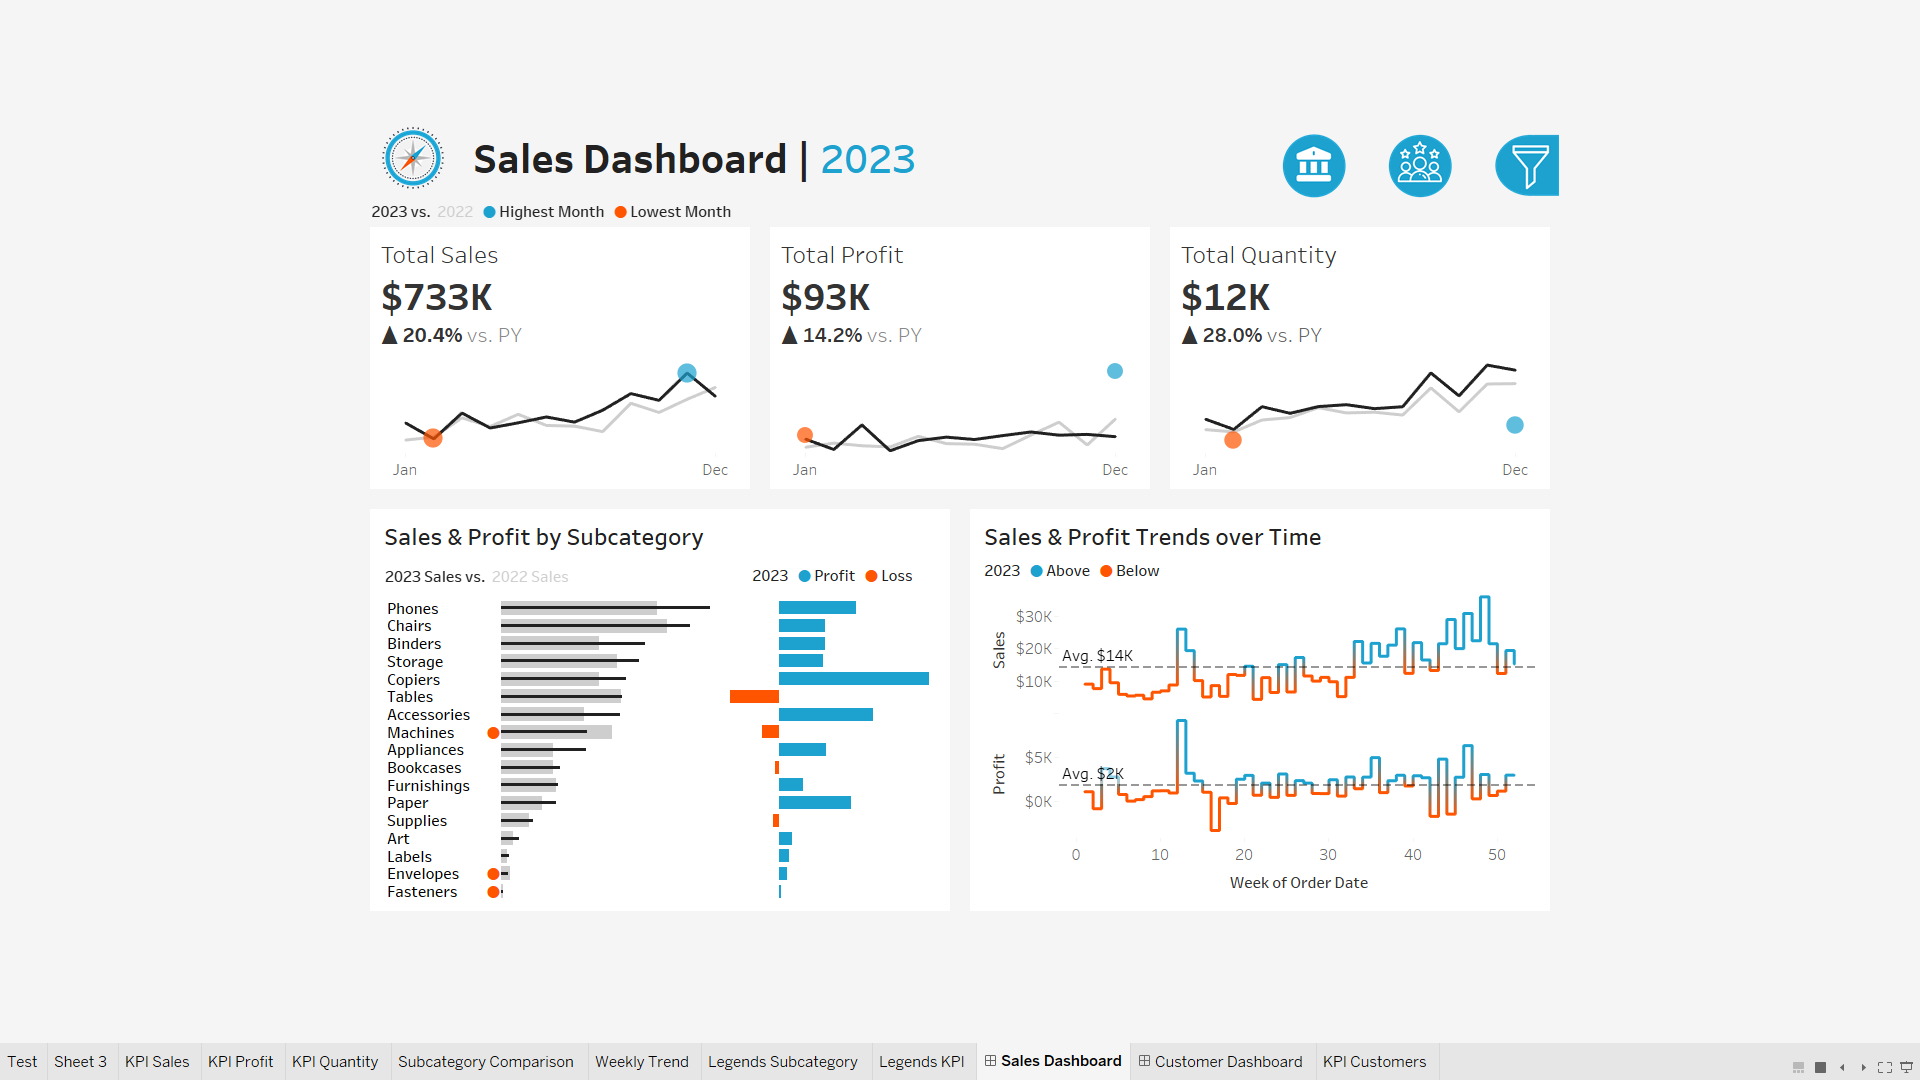

What the dashboard file says about the page in this screenshot:
{"tool":"tableau","page":{"name":"Sales Dashboard","canvas":[1200,800],"ordinal":1},"visuals":[{"type":"image","param":"Image/Icon - Logo.png","box":[0,0,106,73]},{"type":"text","box":[106,0,693,73]},{"type":"dashboard-object","box":[900,8,107,73]},{"type":"dashboard-object","box":[1007,8,106,73]},{"type":"blank","box":[910,10,279,81]},{"type":"worksheet","title":"Legends KPI","mark":"Automatic","box":[0,73,1200,33]},{"type":"text","box":[910,91,279,40]},{"type":"worksheet","title":"KPI Sales","mark":"Automatic","rows":["Calculation_754352968566202372"],"cols":["Order Date"],"box":[0,106,400,272]},{"type":"worksheet","title":"KPI Profit","mark":"Automatic","rows":["Calculation_615585807140130819"],"cols":["Order Date"],"box":[400,106,400,272]},{"type":"worksheet","title":"KPI Quantity","mark":"Automatic","rows":["Calculation_615585807147462667"],"cols":["Order Date"],"box":[800,106,400,272]},{"type":"parameter","param":"[Parameters].[Parameter 1]","box":[910,131,279,56]},{"type":"blank","box":[910,187,279,70]},{"type":"text","box":[910,257,279,33]},{"type":"filter","title":"KPI Sales","param":"[federated.1e60oxx0sqs3ql1b37qv707od4ro].[none:Category:nk]","box":[910,290,279,61]},{"type":"filter","title":"KPI Sales","param":"[federated.1e60oxx0sqs3ql1b37qv707od4ro].[none:Sub-Category:nk]","box":[910,351,279,61]},{"type":"text","box":[17,395,566,40]},{"type":"text","box":[617,395,566,40]},{"type":"blank","box":[910,412,279,69]},{"type":"worksheet","title":"Legends Subcategory","mark":"Automatic","box":[17,435,368,39]},{"type":"text","box":[385,435,198,39]},{"type":"text","box":[617,435,566,29]},{"type":"worksheet","title":"Weekly Trend","mark":"Automatic","rows":["Calculation_754352968559554560","Calculation_615585807138197504"],"cols":["Order Date"],"box":[617,464,566,319]},{"type":"worksheet","title":"Subcategory Comparison","mark":"Bar","rows":["Sub-Category","Calculation_615585807155105804"],"cols":["Calculation_754352968559853569","Calculation_754352968559554560","Calculation_615585807138197504"],"box":[17,474,566,309]},{"type":"text","box":[910,481,279,33]},{"type":"filter","title":"KPI Sales","param":"[federated.1e60oxx0sqs3ql1b37qv707od4ro].[none:Region:nk]","box":[910,514,279,61]},{"type":"filter","title":"KPI Sales","param":"[federated.1e60oxx0sqs3ql1b37qv707od4ro].[none:State:nk]","box":[910,575,279,61]},{"type":"filter","title":"KPI Sales","param":"[federated.1e60oxx0sqs3ql1b37qv707od4ro].[none:City:nk]","box":[910,636,279,61]}]}

Visuals, with their boxes on the page's 1200x800 design canvas (x1, y1, x2, y2). These are canvas units, not pixel positions in the 1920x1080 screenshot, which may show the page scaled, cropped or inside an application window:
image: x1=0, y1=0, x2=106, y2=73
text: x1=106, y1=0, x2=799, y2=73
dashboard-object: x1=900, y1=8, x2=1007, y2=81
dashboard-object: x1=1007, y1=8, x2=1113, y2=81
blank: x1=910, y1=10, x2=1189, y2=91
"Legends KPI" worksheet: x1=0, y1=73, x2=1200, y2=106
text: x1=910, y1=91, x2=1189, y2=131
"KPI Sales" worksheet: x1=0, y1=106, x2=400, y2=378
"KPI Profit" worksheet: x1=400, y1=106, x2=800, y2=378
"KPI Quantity" worksheet: x1=800, y1=106, x2=1200, y2=378
parameter: x1=910, y1=131, x2=1189, y2=187
blank: x1=910, y1=187, x2=1189, y2=257
text: x1=910, y1=257, x2=1189, y2=290
"KPI Sales" filter: x1=910, y1=290, x2=1189, y2=351
"KPI Sales" filter: x1=910, y1=351, x2=1189, y2=412
text: x1=17, y1=395, x2=583, y2=435
text: x1=617, y1=395, x2=1183, y2=435
blank: x1=910, y1=412, x2=1189, y2=481
"Legends Subcategory" worksheet: x1=17, y1=435, x2=385, y2=474
text: x1=385, y1=435, x2=583, y2=474
text: x1=617, y1=435, x2=1183, y2=464
"Weekly Trend" worksheet: x1=617, y1=464, x2=1183, y2=783
"Subcategory Comparison" worksheet (Bar marks): x1=17, y1=474, x2=583, y2=783
text: x1=910, y1=481, x2=1189, y2=514
"KPI Sales" filter: x1=910, y1=514, x2=1189, y2=575
"KPI Sales" filter: x1=910, y1=575, x2=1189, y2=636
"KPI Sales" filter: x1=910, y1=636, x2=1189, y2=697
